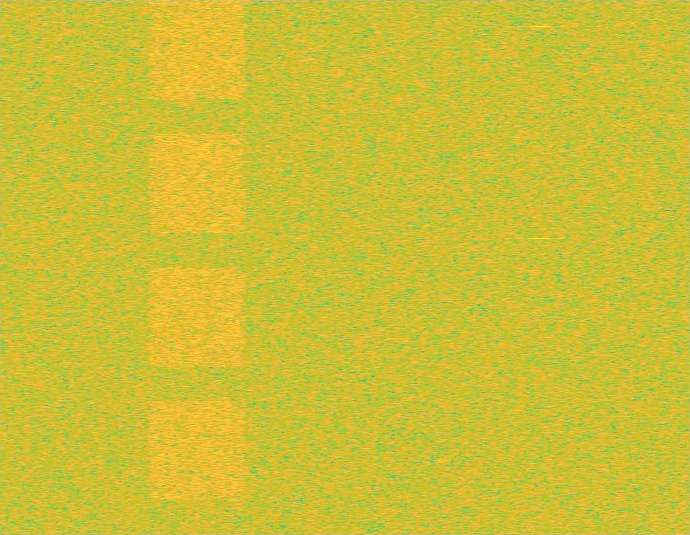5G: (146, 0, 249, 534)
Radar: (533, 0, 547, 534)
